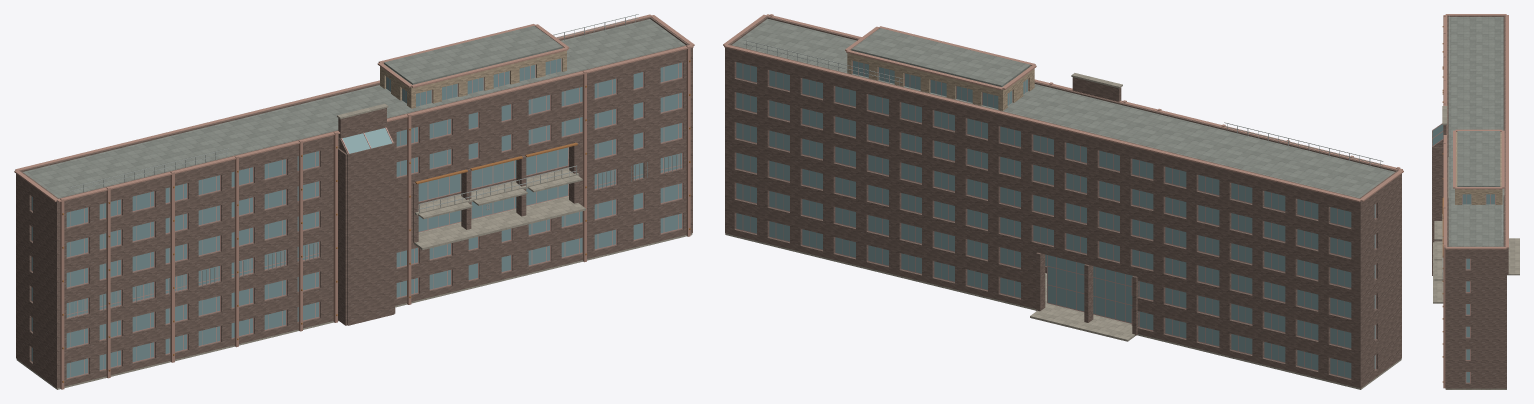
The picture shows the model from 3 angles, left to right: view 1: azimuth 30°, elevation 25°; view 2: azimuth 150°, elevation 25°; view 3: azimuth 270°, elevation 25°; orthographic projection. The views are drawn at different scales.
Visible parts, largest first — view 1: uchon__brick, uchon__glass, uchon__roof, uchon__pink, uchon__frame, uchon__base, uchon__threshold-south, uchon__lightbrick, uchon__rail, uchon__copper; view 2: uchon__brick, uchon__glass, uchon__roof, uchon__frame, uchon__pink, uchon__lightbrick, uchon__threshold-north, uchon__base, uchon__rail; view 3: uchon__roof, uchon__brick, uchon__pink, uchon__base, uchon__lightbrick, uchon__glass, uchon__threshold-north, uchon__frame, uchon__threshold-south, uchon__copper, uchon__rail.
Boxes of the visible parts, x1=… form: uchon__brick: x1=16, y1=16, x2=692, y2=388; uchon__glass: x1=31, y1=58, x2=681, y2=377; uchon__roof: x1=23, y1=19, x2=685, y2=198; uchon__pink: x1=14, y1=14, x2=694, y2=389; uchon__frame: x1=31, y1=58, x2=682, y2=378; uchon__base: x1=16, y1=103, x2=692, y2=389; uchon__threshold-south: x1=414, y1=196, x2=585, y2=250; uchon__lightbrick: x1=380, y1=47, x2=566, y2=108; uchon__rail: x1=70, y1=14, x2=680, y2=318; uchon__copper: x1=62, y1=60, x2=690, y2=382; uchon__brick: x1=725, y1=16, x2=1401, y2=388; uchon__glass: x1=736, y1=60, x2=1375, y2=378; uchon__roof: x1=732, y1=18, x2=1394, y2=198; uchon__frame: x1=735, y1=60, x2=1376, y2=378; uchon__pink: x1=723, y1=14, x2=1403, y2=202; uchon__lightbrick: x1=847, y1=53, x2=1034, y2=110; uchon__threshold-north: x1=1030, y1=304, x2=1135, y2=341; uchon__base: x1=725, y1=73, x2=1401, y2=389; uchon__rail: x1=744, y1=40, x2=1383, y2=168; uchon__roof: x1=1448, y1=17, x2=1503, y2=246; uchon__brick: x1=1432, y1=15, x2=1508, y2=388; uchon__pink: x1=1443, y1=14, x2=1508, y2=388; uchon__base: x1=1434, y1=106, x2=1506, y2=389; uchon__lightbrick: x1=1455, y1=132, x2=1502, y2=204; uchon__glass: x1=1432, y1=124, x2=1494, y2=382; uchon__threshold-north: x1=1507, y1=238, x2=1519, y2=275; uchon__frame: x1=1432, y1=123, x2=1495, y2=383; uchon__threshold-south: x1=1433, y1=242, x2=1443, y2=303; uchon__copper: x1=1442, y1=26, x2=1443, y2=382; uchon__rail: x1=1442, y1=15, x2=1502, y2=277.
Bounding box in the file's own units: 79.85 × 25.34 × 12.65.
9 materials, 4 textured.
